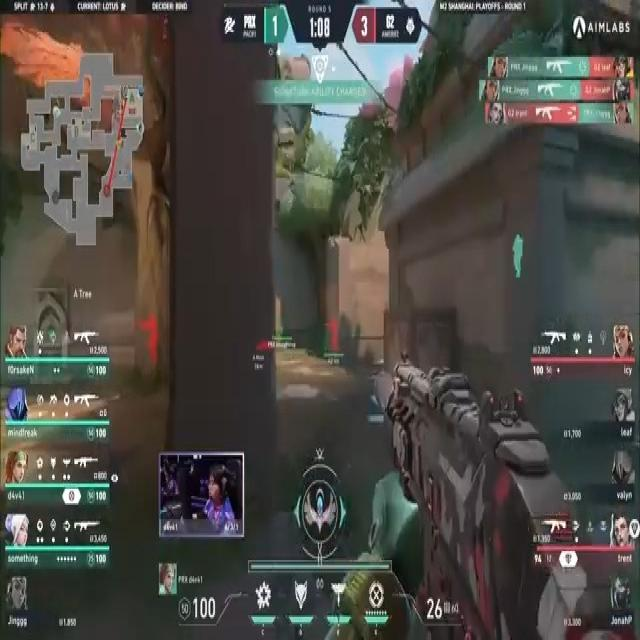ally behind wall: (511, 228, 525, 280)
enemy behind wall: (137, 309, 161, 371), (323, 315, 341, 354)
